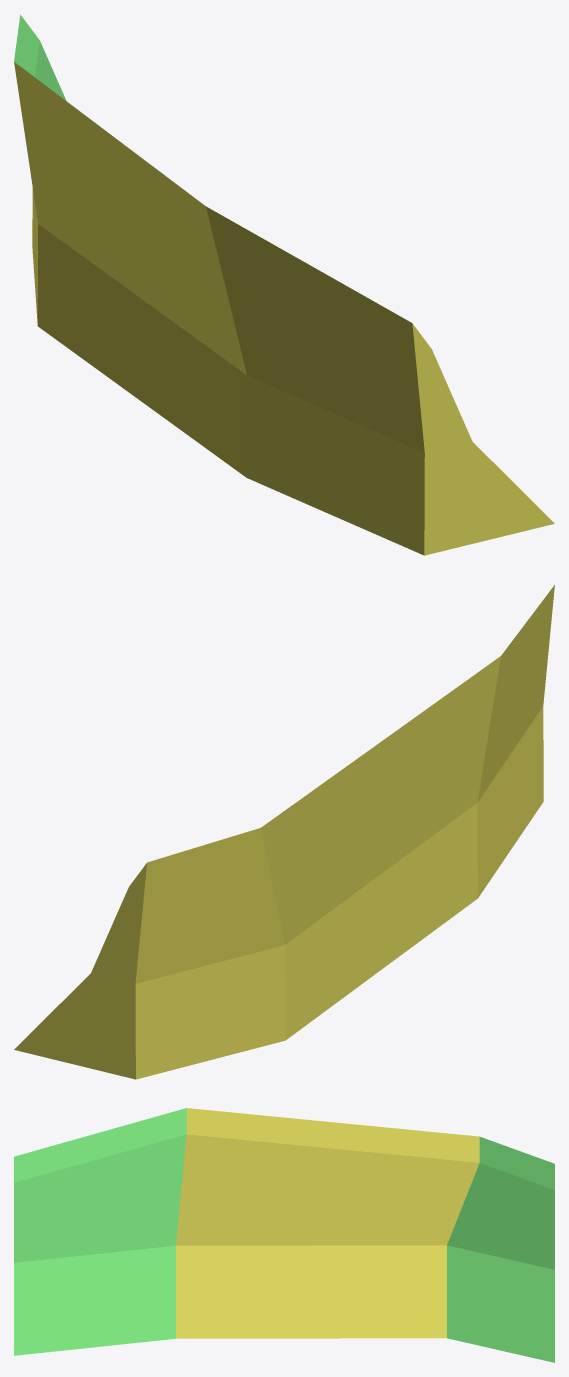
File: BackMountain.fbx
3 views of the same model, one above another, from view 1: azimuth 30°, elevation 25°; view 2: azimuth 150°, elevation 25°; view 3: azimuth 270°, elevation 25° (orthographic). The views are drawn at different scales.
Parts seen in each view (by area): view 1: Cube; view 2: Cube; view 3: Cube.
Boxes of the visible parts, x1,y1,x2,y2 form: Cube: (14, 14, 554, 555); Cube: (14, 585, 554, 1079); Cube: (14, 1108, 554, 1362).
Size of the model in its own units: 8945 by 9775 by 26820.
